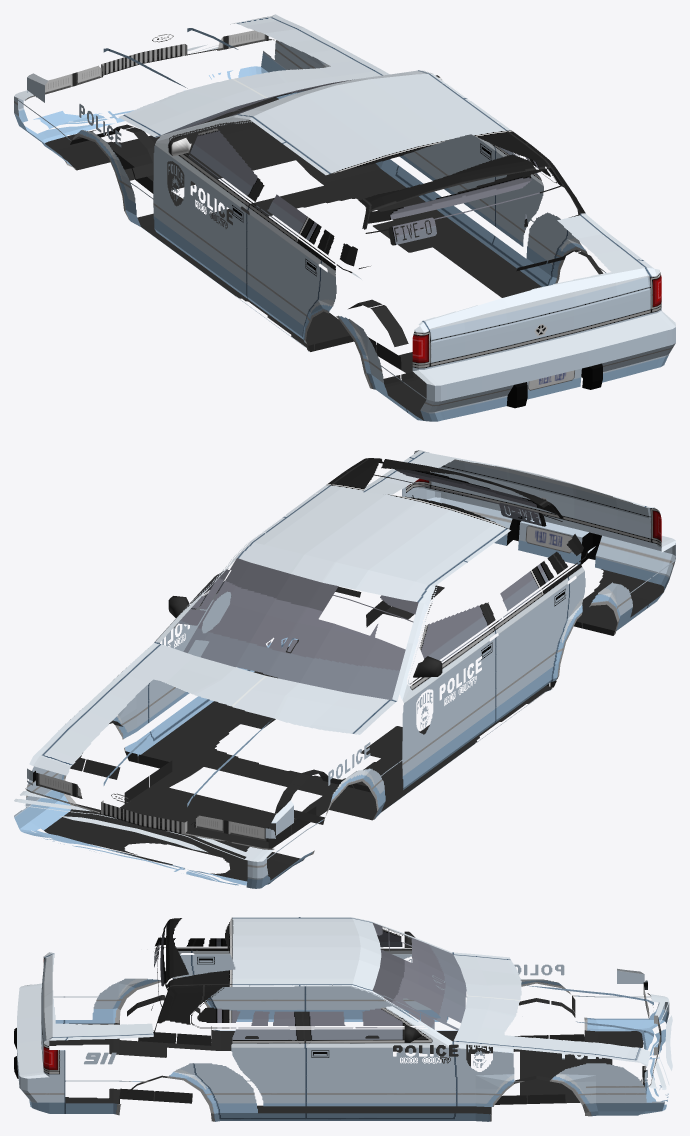
The model's file is 91newyorker.fbx.
3 renders of one model, top to bottom at view 1: azimuth 30°, elevation 25°; view 2: azimuth 150°, elevation 25°; view 3: azimuth 270°, elevation 25°, orthographic. The views are drawn at different scales.
Visible parts, largest first — view 1: 91newyorker; view 2: 91newyorker; view 3: 91newyorker.
Boxes of the visible parts, box(x1,y1,x2,y2) form: 91newyorker: box(14, 14, 675, 421); 91newyorker: box(14, 450, 675, 888); 91newyorker: box(14, 917, 672, 1121).
Size of the model in its own units: 1.92 by 1.13 by 5.27.
